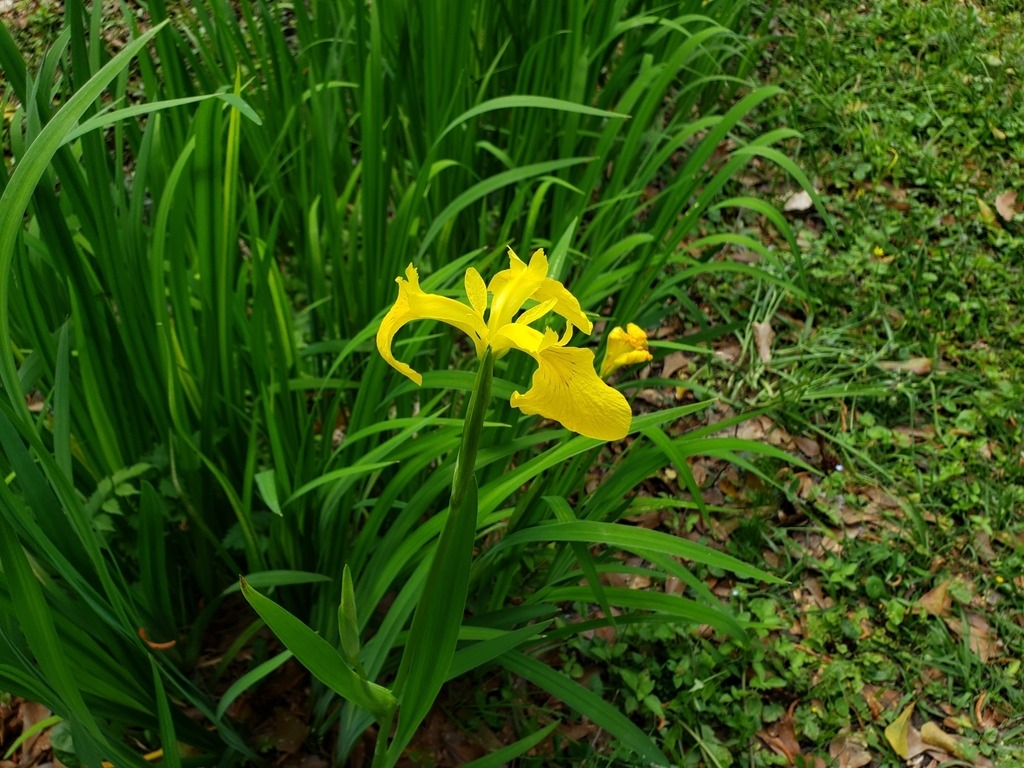yellow flag iris: (373, 242, 636, 445)
